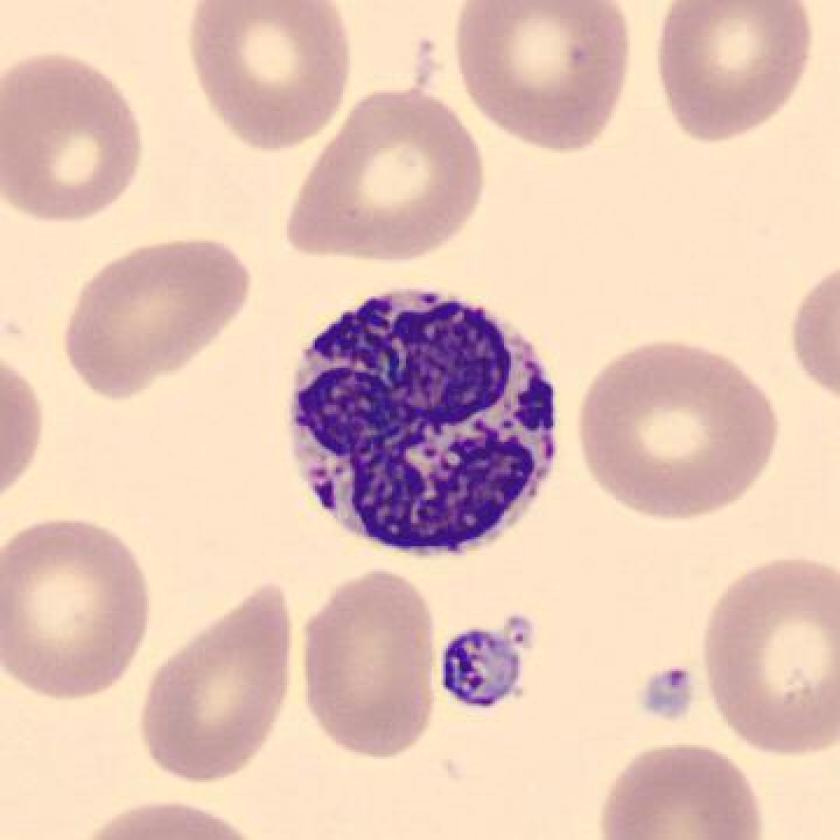basophil: (277, 286, 564, 563)
